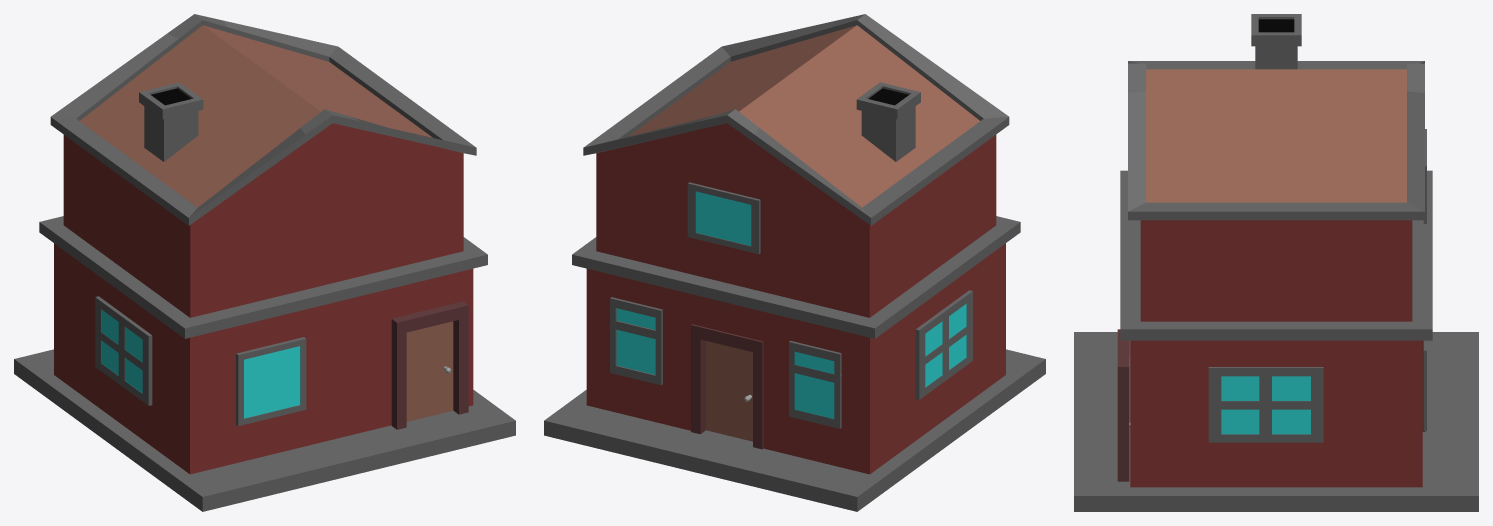
File: HouseV2.fbx
3 renders of one model, left to right at view 1: azimuth 30°, elevation 25°; view 2: azimuth 150°, elevation 25°; view 3: azimuth 270°, elevation 25°, orthographic. The views are drawn at different scales.
Parts seen in each view (by area): view 1: Cube.006; view 2: Cube.006; view 3: Cube.006.
Part boxes in pixels (box(x1,y1,x2,y2)): Cube.006: box(14, 14, 515, 511); Cube.006: box(544, 14, 1045, 511); Cube.006: box(1074, 14, 1478, 511).
Bounding box in the file's own units: 395 × 410 × 412.
